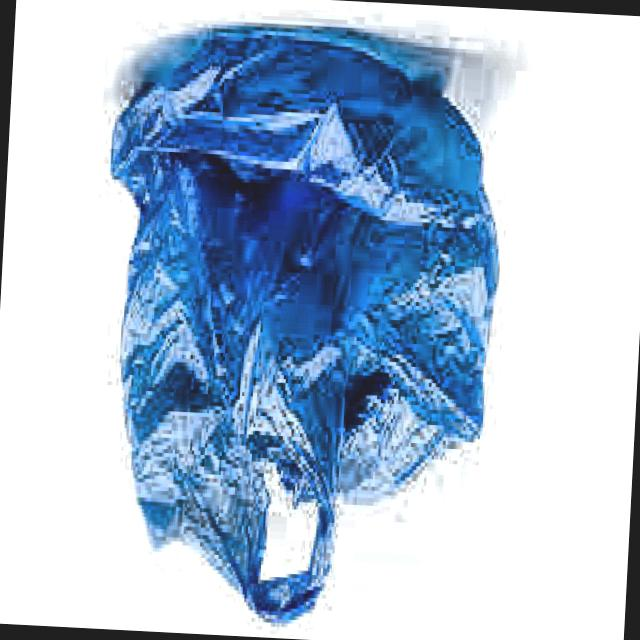plastic bag: (112, 34, 498, 623)
